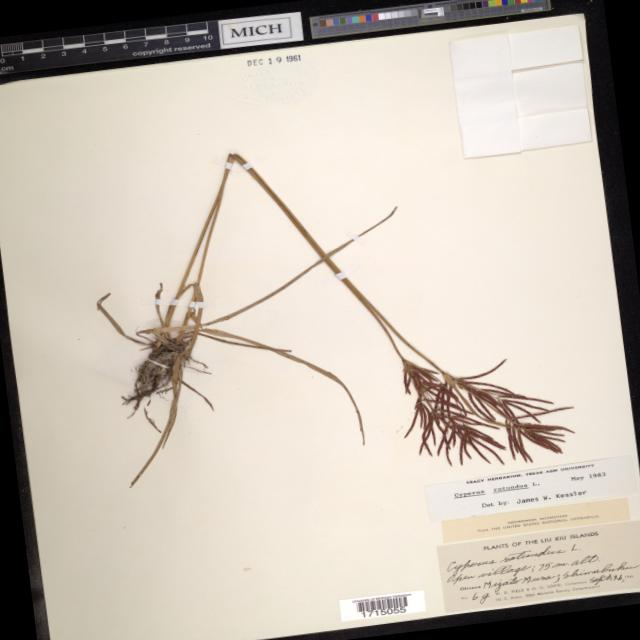cyperus: (375, 330, 583, 480)
